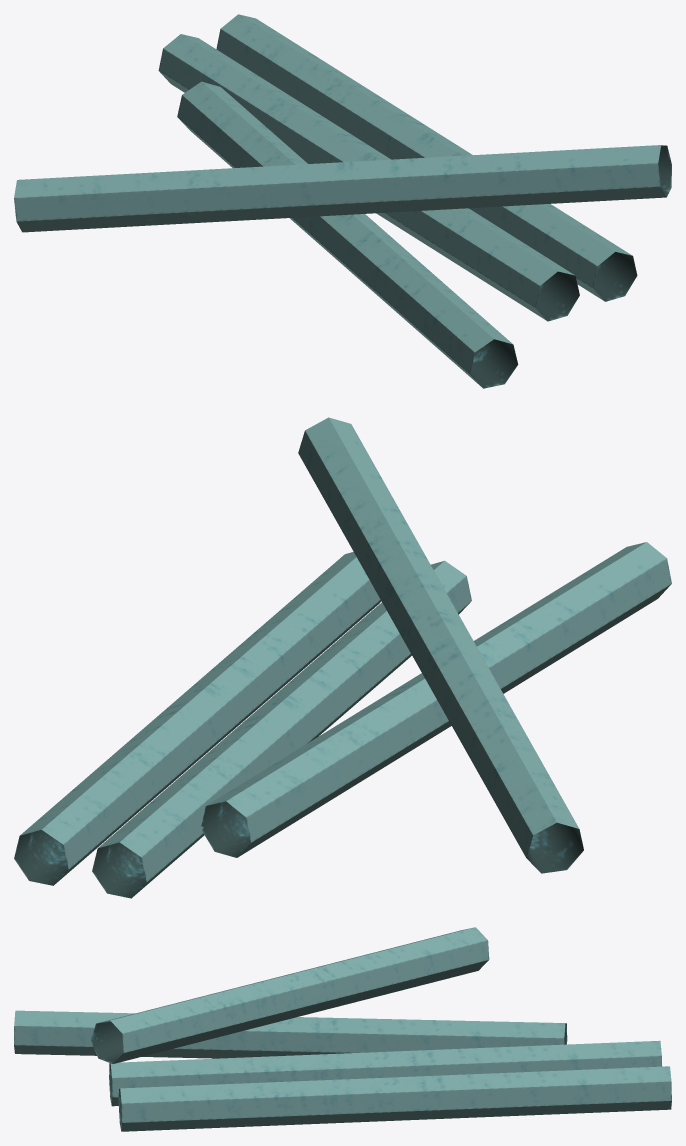
The model's file is SM_Pipes.fbx.
3 renders of one model, top to bottom at view 1: azimuth 30°, elevation 25°; view 2: azimuth 150°, elevation 25°; view 3: azimuth 270°, elevation 25°, orthographic. The views are drawn at different scales.
Parts seen in each view (by area): view 1: SM_Pipes; view 2: SM_Pipes; view 3: SM_Pipes.
Part boxes in pixels (x1=…): SM_Pipes: x1=14, y1=14, x2=671, y2=388; SM_Pipes: x1=14, y1=417, x2=671, y2=898; SM_Pipes: x1=14, y1=927, x2=671, y2=1131.
Size of the model in its own units: 0.386 by 0.1209 by 0.5855.
Materials: 1 (1 with a texture image).
